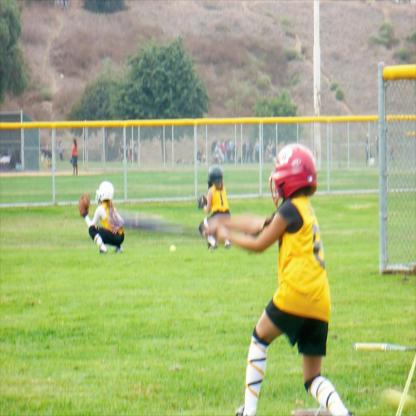Helmet: (272, 148, 320, 207), (94, 182, 112, 203), (207, 163, 220, 184)
